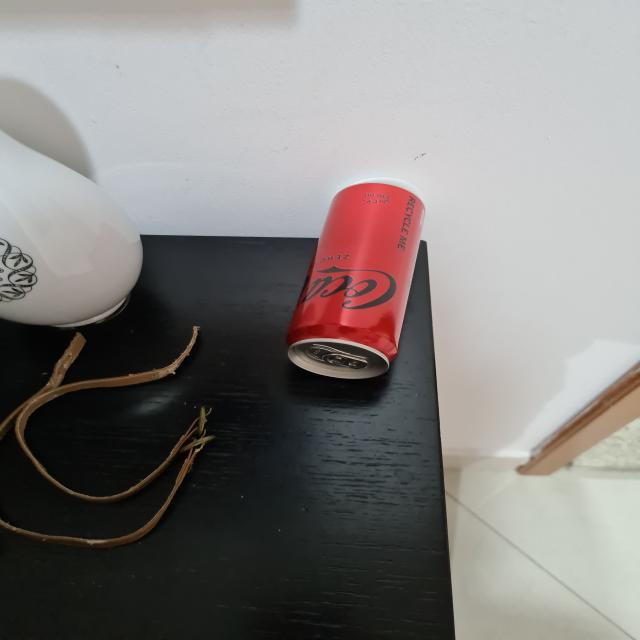can: (280, 180, 430, 384)
